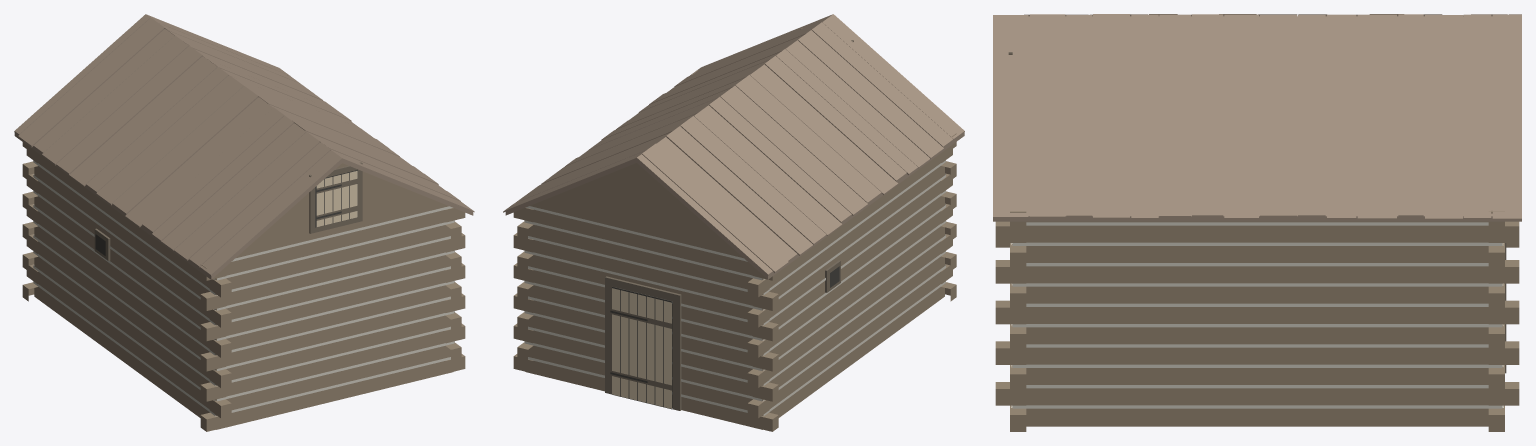
The model's file is recon_1835_blk_lake_market_a1_06__inferred_1835.glb.
3 views of the same model, side by side, from view 1: azimuth 30°, elevation 25°; view 2: azimuth 150°, elevation 25°; view 3: azimuth 270°, elevation 25° (orthographic). The views are drawn at different scales.
Visible parts, largest first — view 1: recon_1835_blk_lake_market_a1_06__inferred_1835; view 2: recon_1835_blk_lake_market_a1_06__inferred_1835; view 3: recon_1835_blk_lake_market_a1_06__inferred_1835.
Boxes of the visible parts, x1,y1,x2,y2 form: recon_1835_blk_lake_market_a1_06__inferred_1835: (14, 14, 474, 431); recon_1835_blk_lake_market_a1_06__inferred_1835: (503, 14, 964, 431); recon_1835_blk_lake_market_a1_06__inferred_1835: (993, 14, 1521, 431).
Bounding box in the file's own units: 5.96 × 5.3 × 7.59.
